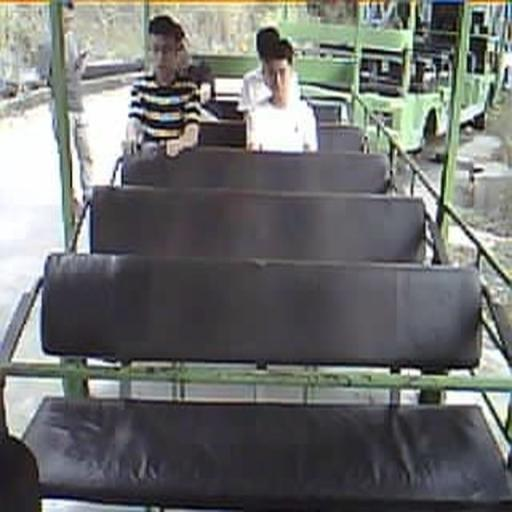persona: (124, 14, 216, 159), (244, 37, 319, 153), (238, 28, 300, 110), (173, 22, 217, 120)
